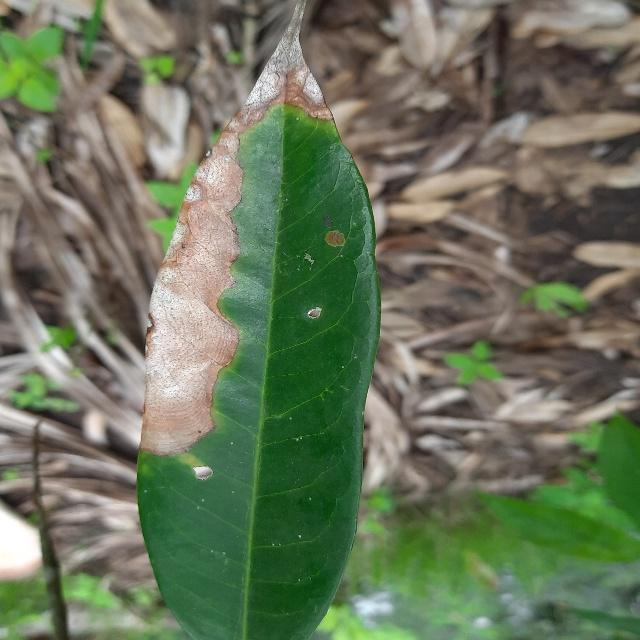Leaf Blight: (130, 0, 393, 640)
